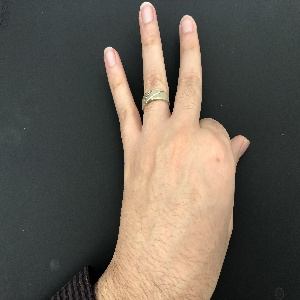hand: (104, 2, 249, 285)
